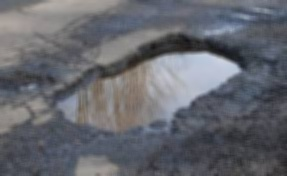pothole: (32, 42, 272, 125), (3, 74, 59, 98), (74, 154, 117, 176)
